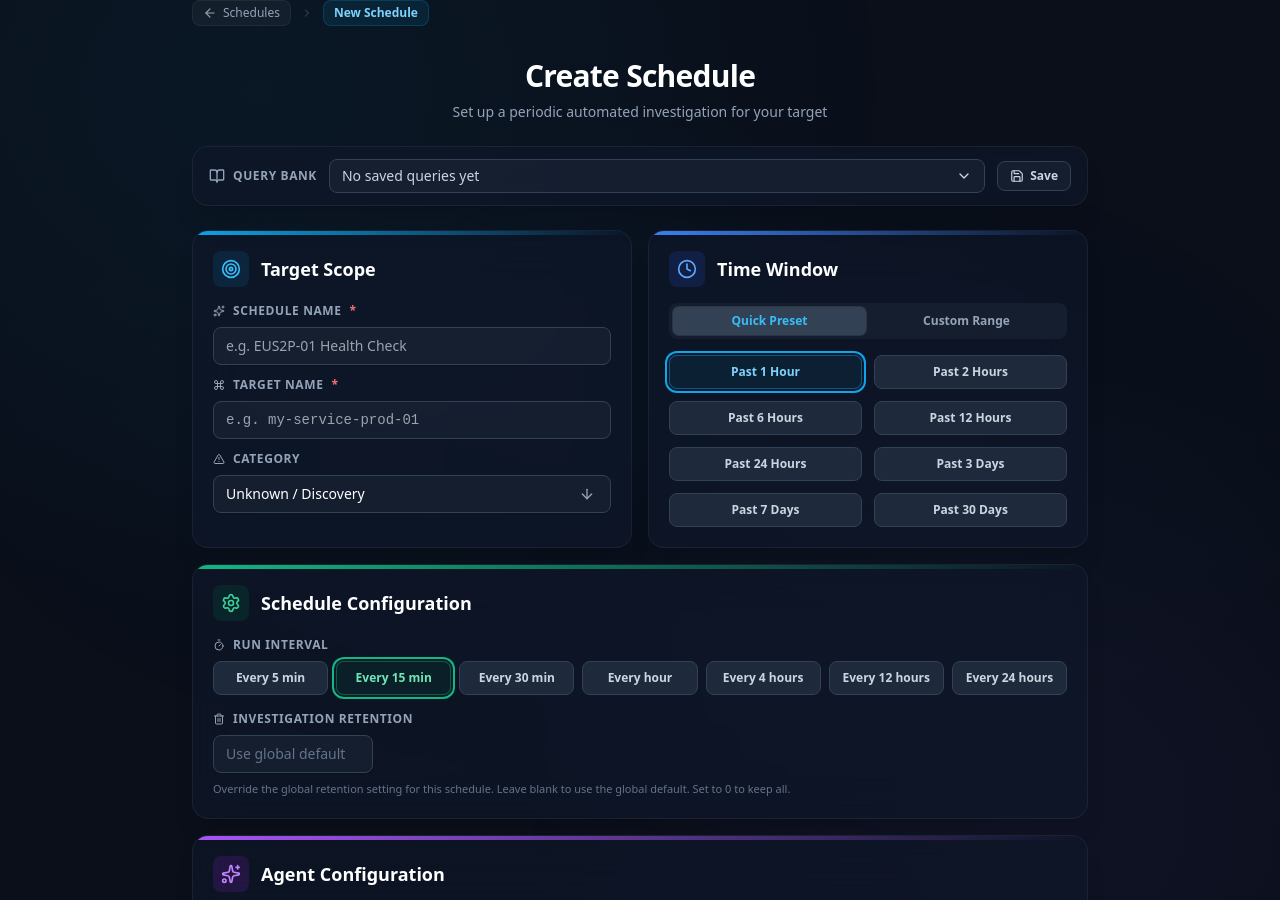
Test: ScheduleForm › Form Submission › disables submit button during loading
The image size is (1280, 900).
Check: the heading "Create Schedule" is shown, box [525,55,755,96]
Type "My Schedule" into the field with placeholder "e.g. EUS2P-01 Health Check".
click(412, 346); type("My Schedule")  # box [213,327,611,365]
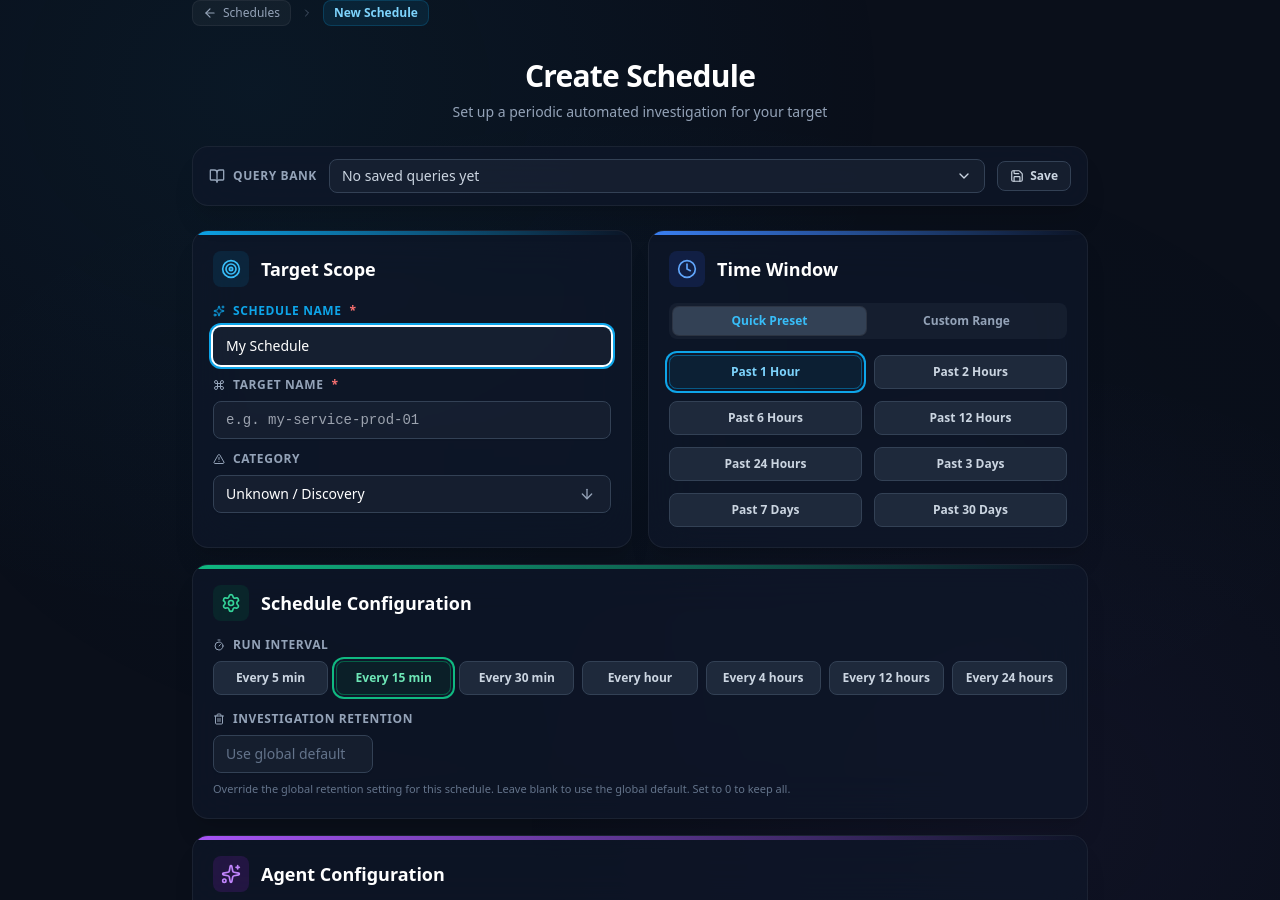
Type "stamp-01" into the field with placeholder "e.g. my-service-prod-01".
click(412, 420); type("stamp-01")  # box [213,401,611,439]
(page scrolled)
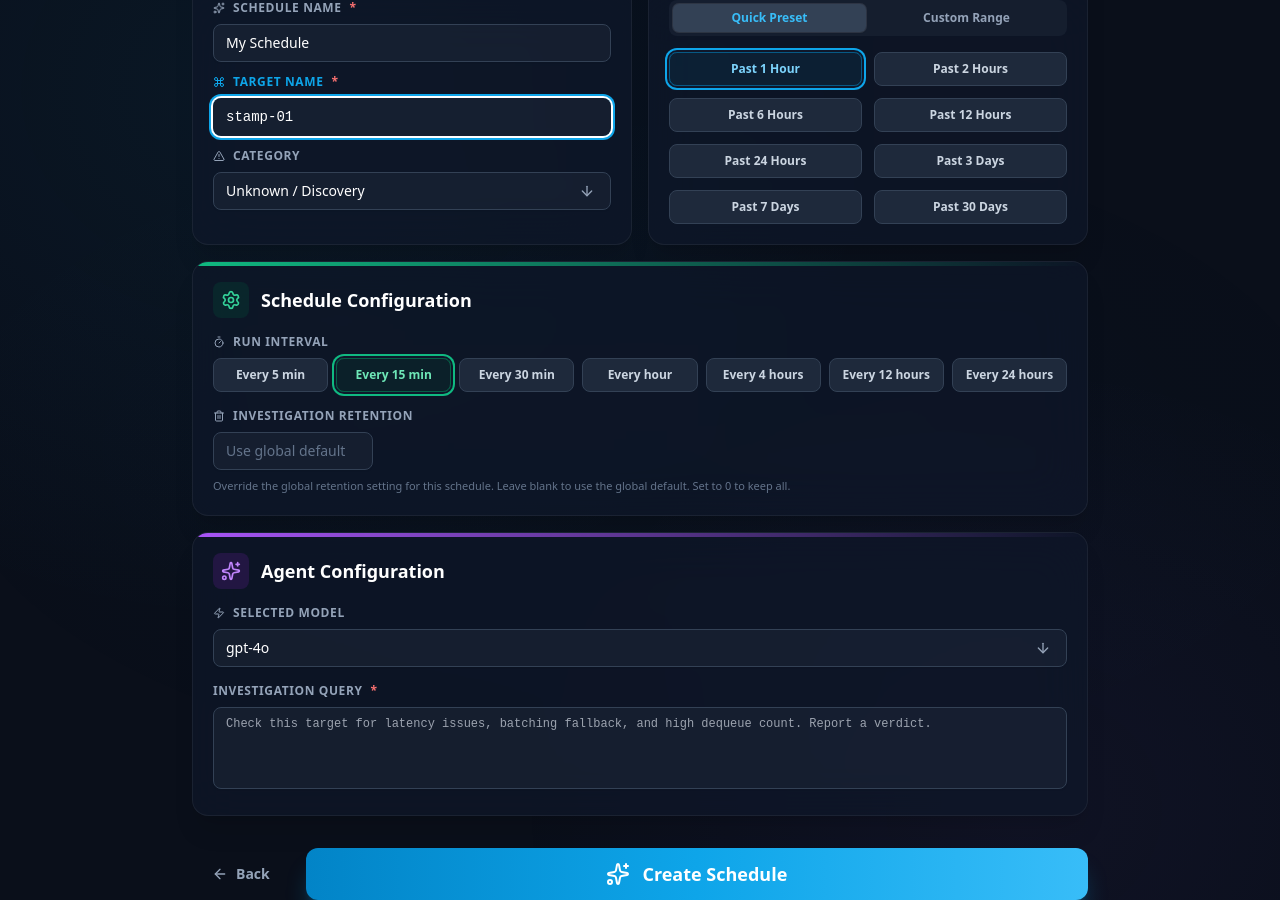
Type "Check latency issues" into the text box with placeholder "Check this".
click(640, 748); type("Check latency issues")  # box [213,706,1067,788]
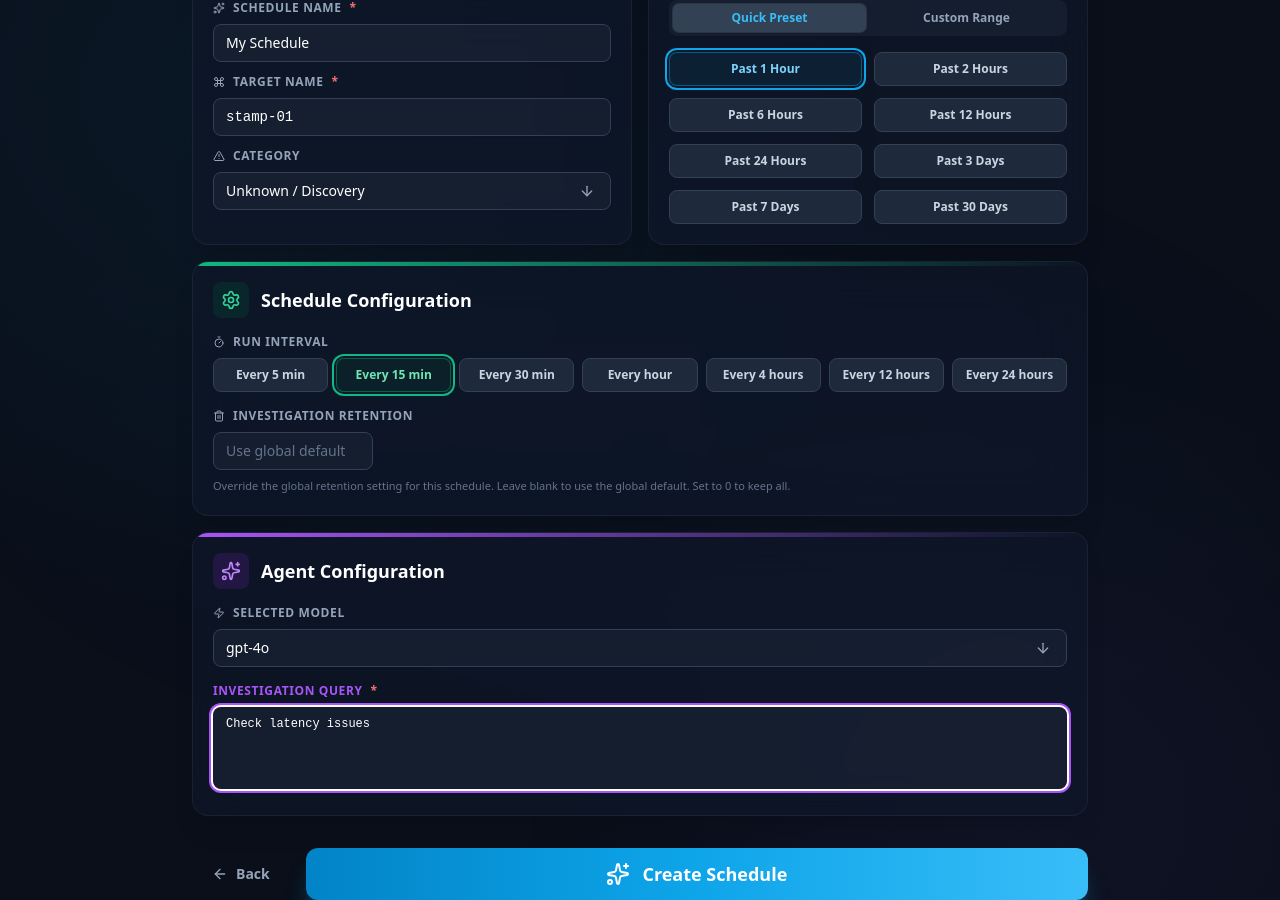
Click the button "Create Schedule".
click(697, 874)  # box [306,848,1088,899]
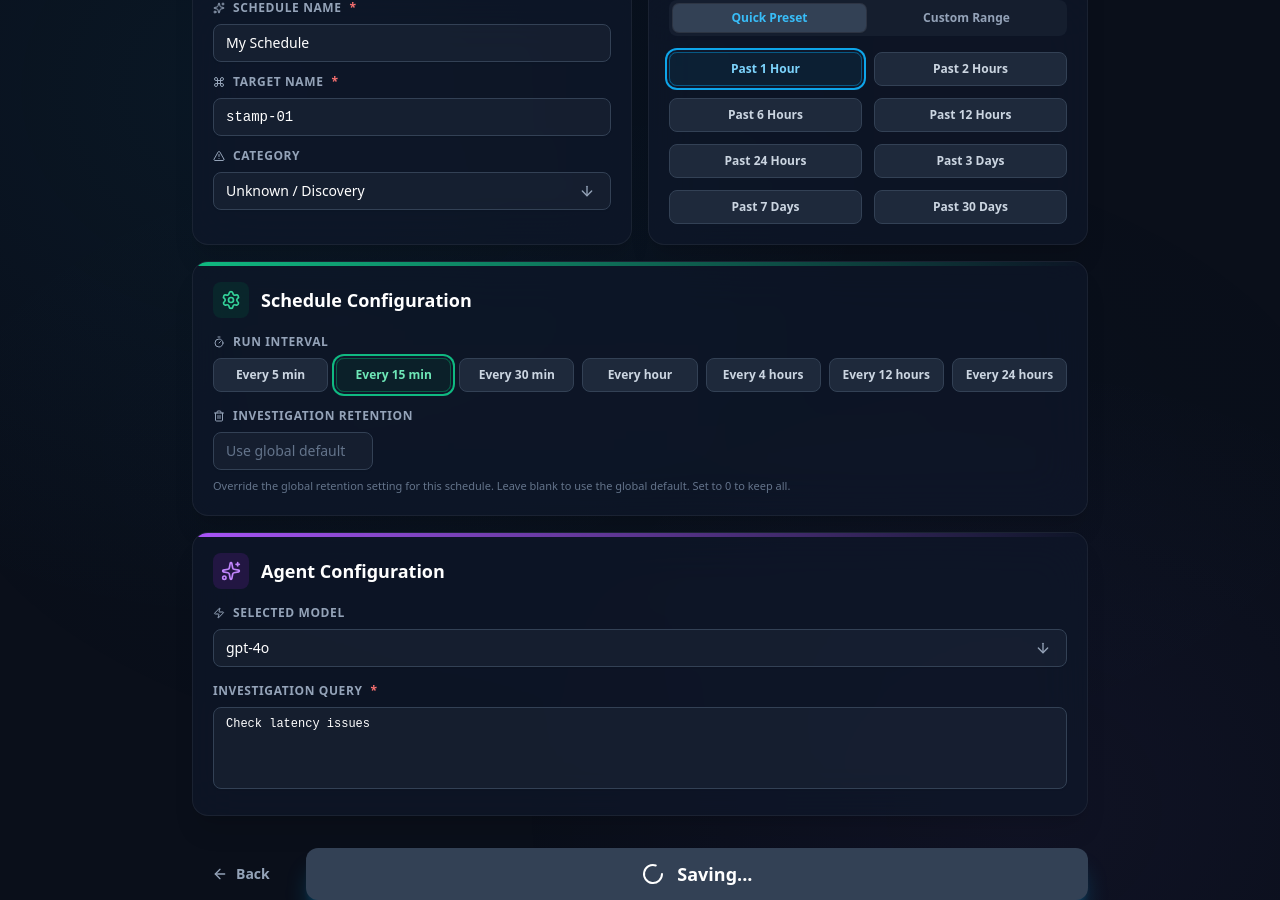
Check: the button named "create schedule" is disabled, box [306,848,1088,899]
